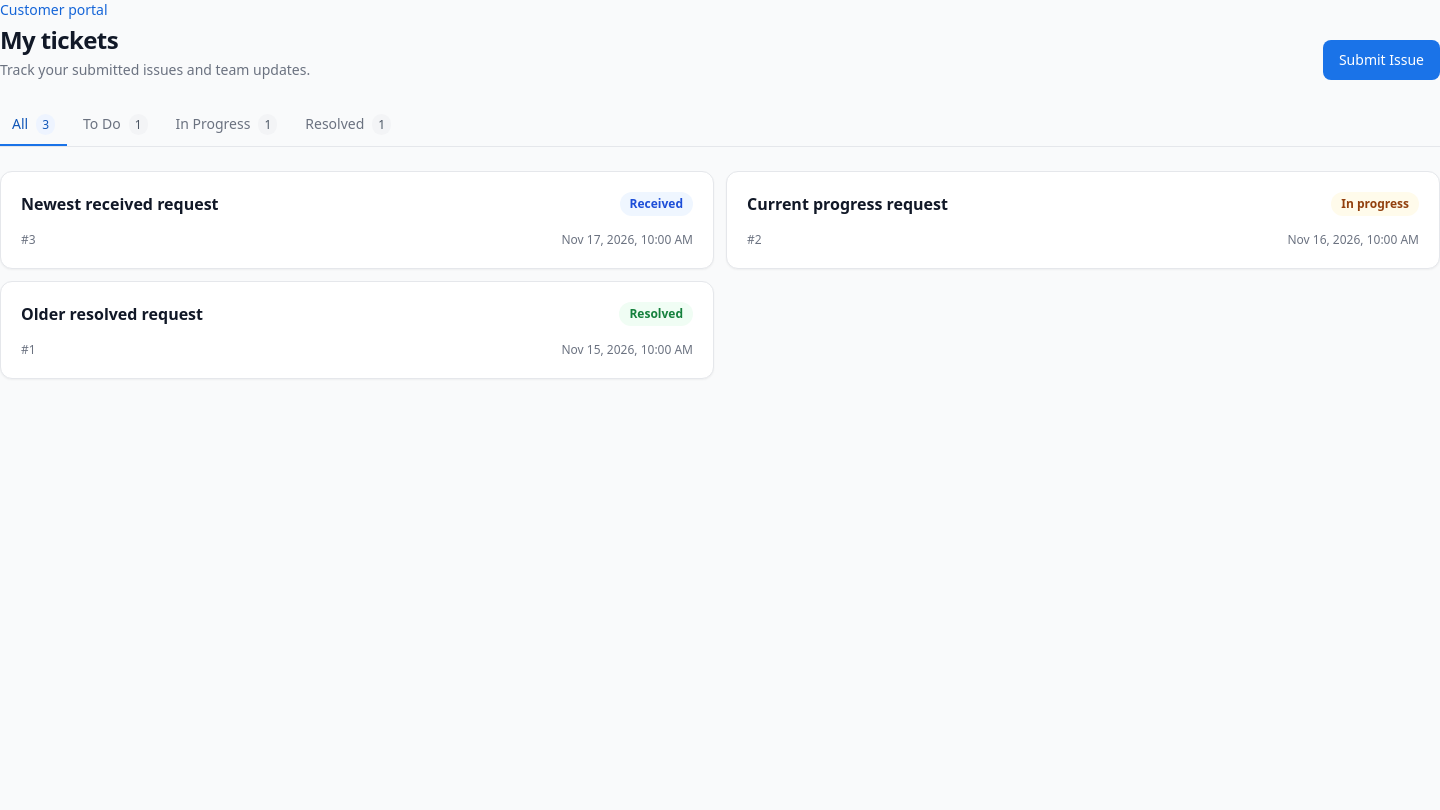
Test case: MyTicketsPage › shows replies and never renders internal AI or assignment fields
Click the button with aria-label "Open ticket Newest received request" at (120, 204), box [0, 171, 714, 269]
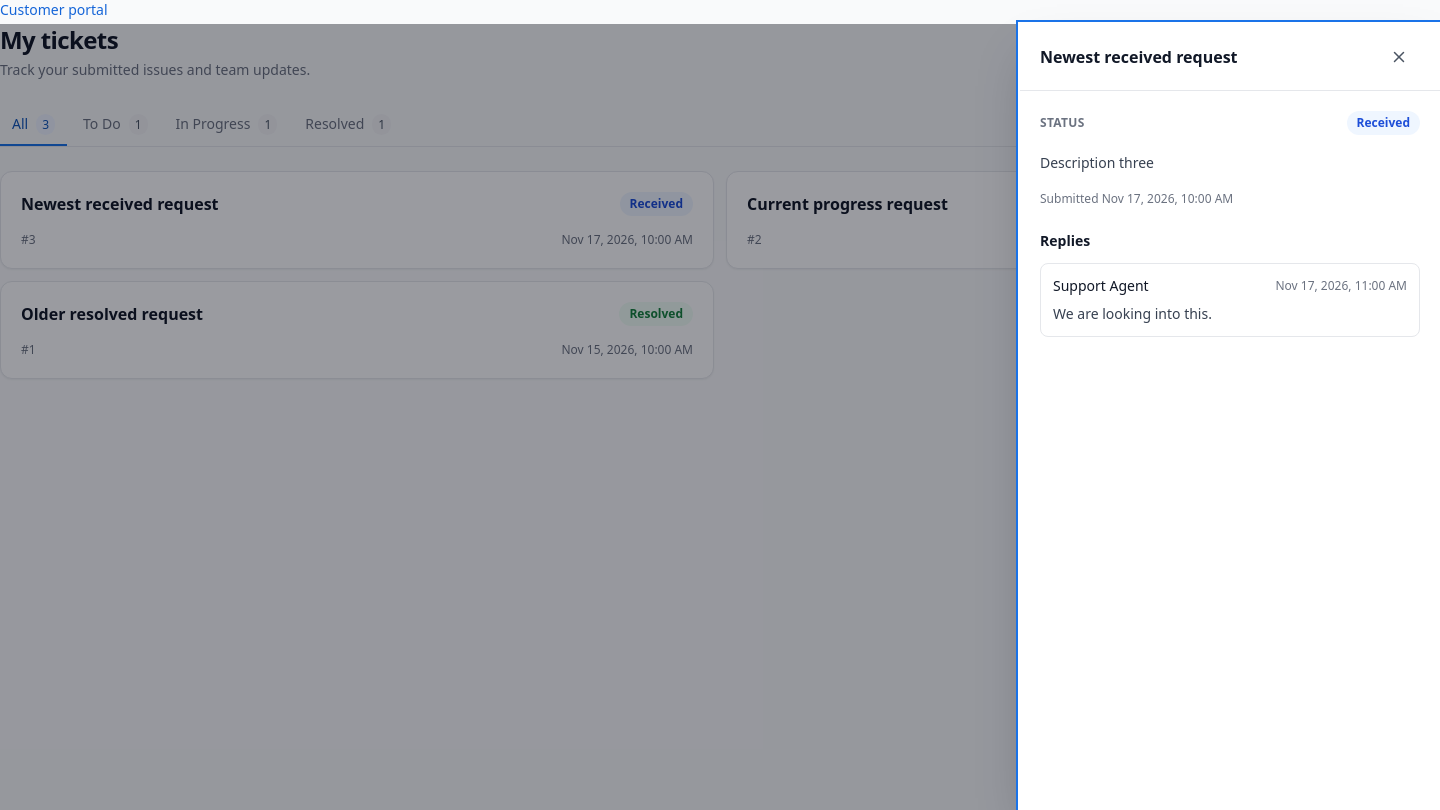
expect the text "We are looking into this." is shown: met, box [1053, 304, 1212, 323]
expect the dialog named "Ticket 3" is shown: met, box [1020, 24, 1439, 809]
